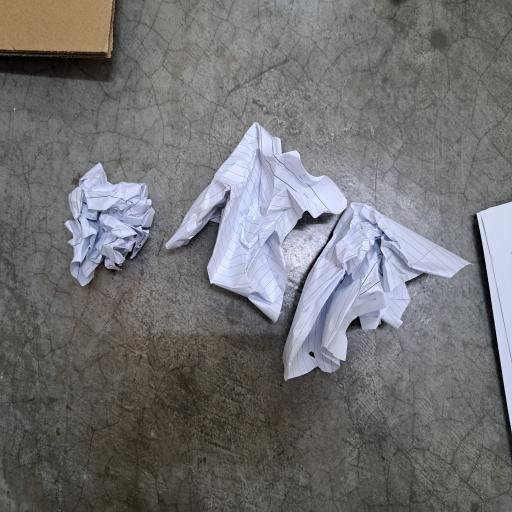cardboard: (334, 0, 384, 161)
paper: (142, 220, 292, 462), (96, 377, 233, 512), (167, 84, 262, 210)
